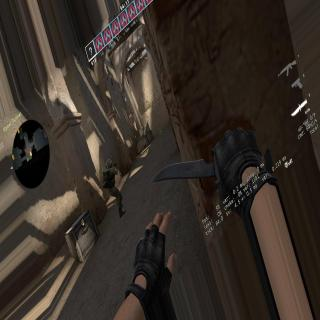CT-Body: (103, 157, 127, 215)
CT-Head: (105, 159, 113, 170)
